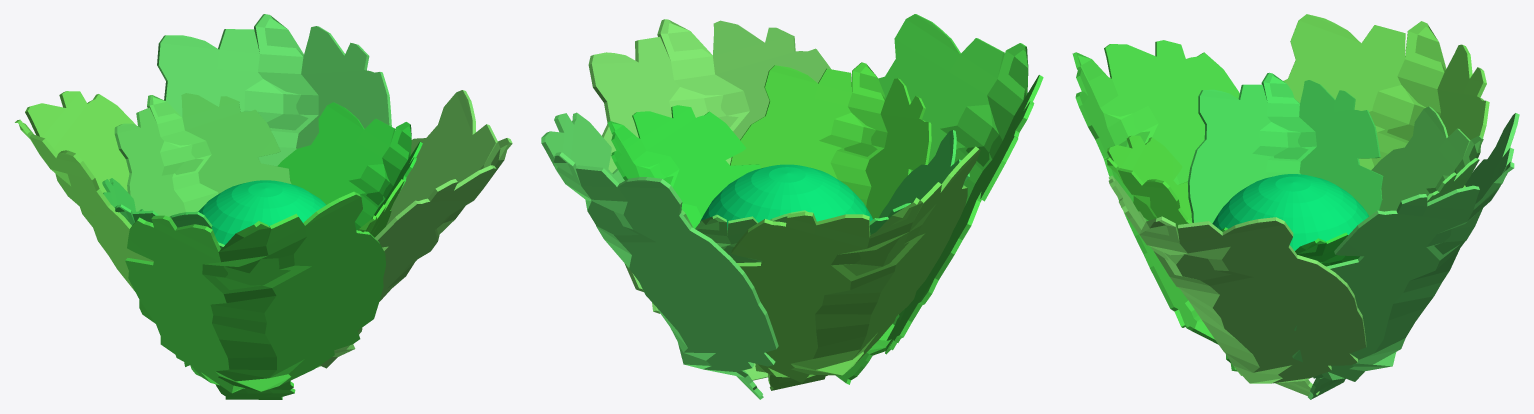
The model's file is Lettuce Mature.fbx.
3 renders of one model, left to right at view 1: azimuth 30°, elevation 25°; view 2: azimuth 150°, elevation 25°; view 3: azimuth 270°, elevation 25°, orthographic. The views are drawn at different scales.
Visible parts, largest first — view 1: Cube.006, Cube.005, Cube.002, Cube.007, Cube.004, Cube, Sphere, Cube.003, Cube.001; view 2: Cube.004, Cube.005, Cube.001, Cube.006, Cube.007, Cube, Sphere, Cube.003, Cube.002; view 3: Cube.007, Cube.003, Cube.005, Cube.004, Cube.006, Sphere, Cube.002, Cube.001, Cube.
Part boxes in pixels (x1,y1,x2,y2): Cube.006: (125, 191, 385, 399); Cube.005: (157, 14, 391, 166); Cube.002: (114, 93, 291, 216); Cube.007: (317, 90, 512, 368); Cube.004: (15, 91, 153, 290); Cube: (277, 102, 422, 230); Sphere: (198, 180, 325, 244); Cube.003: (102, 178, 224, 248); Cube.001: (358, 179, 404, 237); Cube.004: (731, 146, 980, 390); Cube.005: (541, 112, 778, 399); Cube.001: (730, 62, 931, 218); Cube.006: (835, 14, 1043, 384); Cube.007: (588, 19, 830, 380); Cube: (607, 105, 760, 228); Sphere: (700, 164, 872, 229); Cube.003: (869, 130, 969, 234); Cube.002: (681, 209, 807, 262); Cube.007: (1108, 175, 1366, 395); Cube.003: (1188, 72, 1383, 223); Cube.005: (1292, 113, 1519, 399); Cube.004: (1283, 14, 1489, 187); Cube.006: (1072, 40, 1239, 371); Sphere: (1212, 174, 1369, 250); Cube.002: (1371, 106, 1483, 211); Cube.001: (1105, 135, 1192, 232); Cube: (1221, 227, 1359, 266).
Size of the model in its own units: 3684 by 2529 by 3666.
